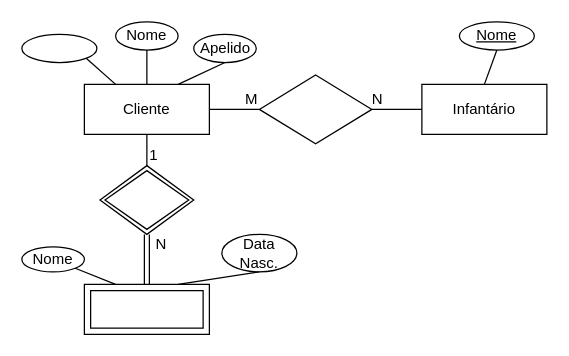
Image size: 569x356. Some labels were removed from this diagram. Here are the shapes that lost their labels. From the top down, the centre of each, then its label:
At (59,47): "Código".
At (315,109): "cli_inf".
At (146,199): "cli_fi".
At (146,308): "Filho".
